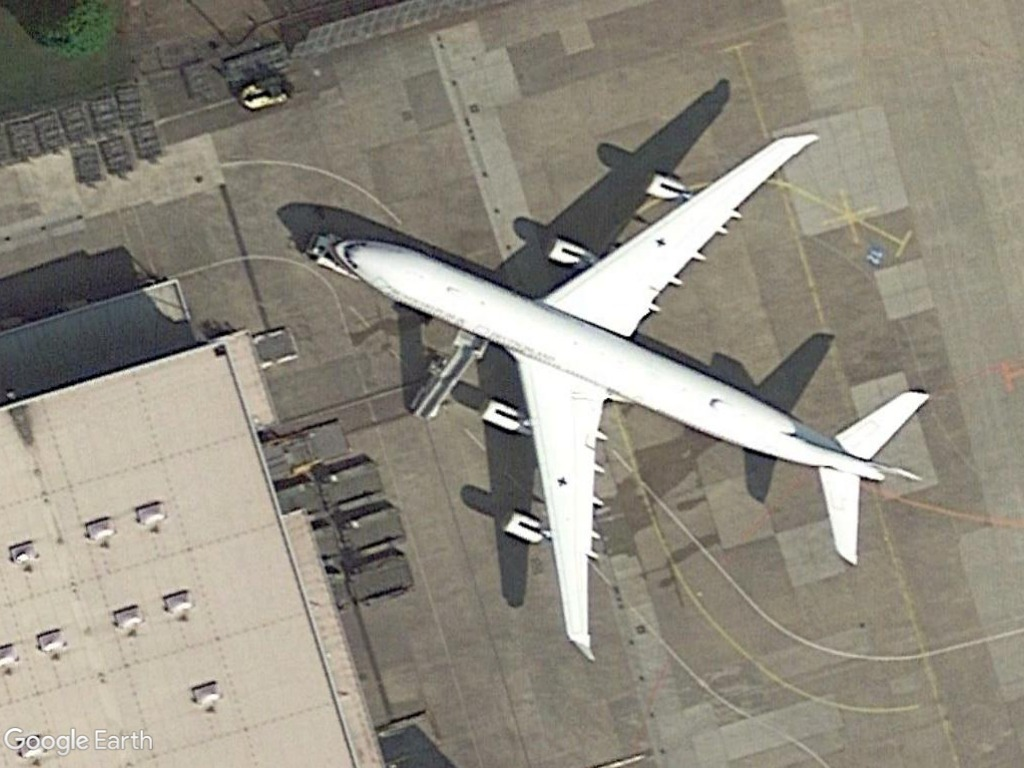airliner: (296, 125, 959, 676)
stairtruck: (403, 329, 485, 429)
